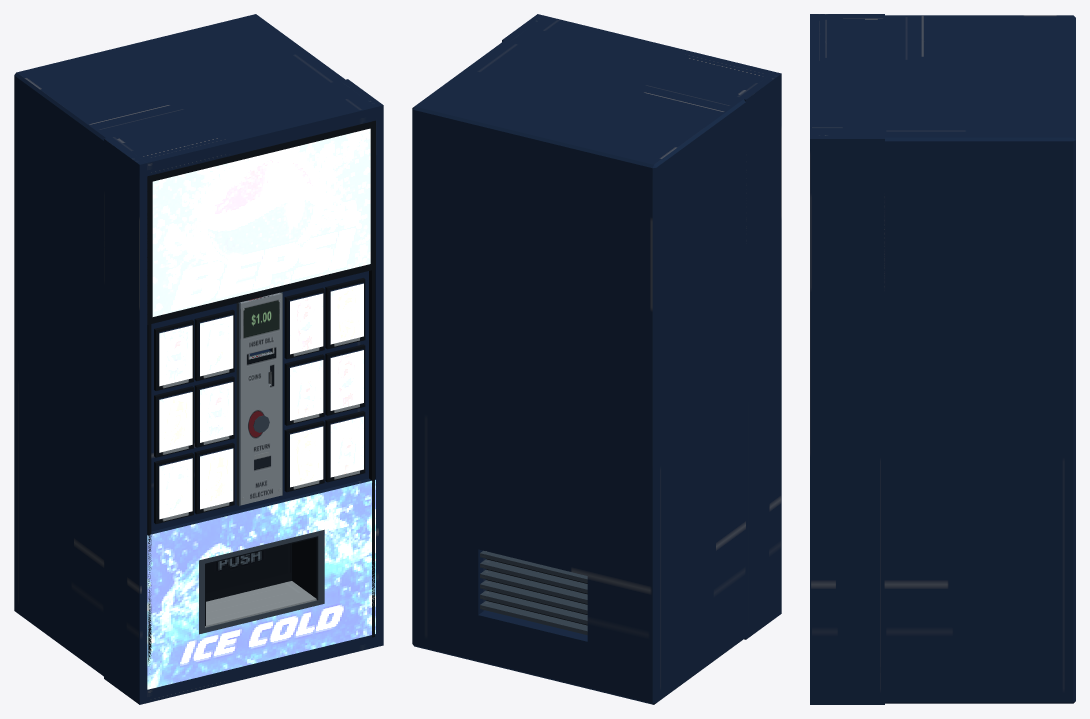
File: vending_machine.glb
3 renders of one model, left to right at view 1: azimuth 30°, elevation 25°; view 2: azimuth 150°, elevation 25°; view 3: azimuth 270°, elevation 25°, orthographic. The views are drawn at different scales.
Parts seen in each view (by area): view 1: arcade_vending_machine; view 2: arcade_vending_machine; view 3: arcade_vending_machine.
Part boxes in pixels (left/top/right/bottom): arcade_vending_machine: left=14, top=14, right=383, bottom=704; arcade_vending_machine: left=412, top=14, right=781, bottom=704; arcade_vending_machine: left=810, top=14, right=1075, bottom=704.
Size of the model in its own units: 0.96 by 2.03 by 0.864.
Materials: 5 (5 with a texture image).
